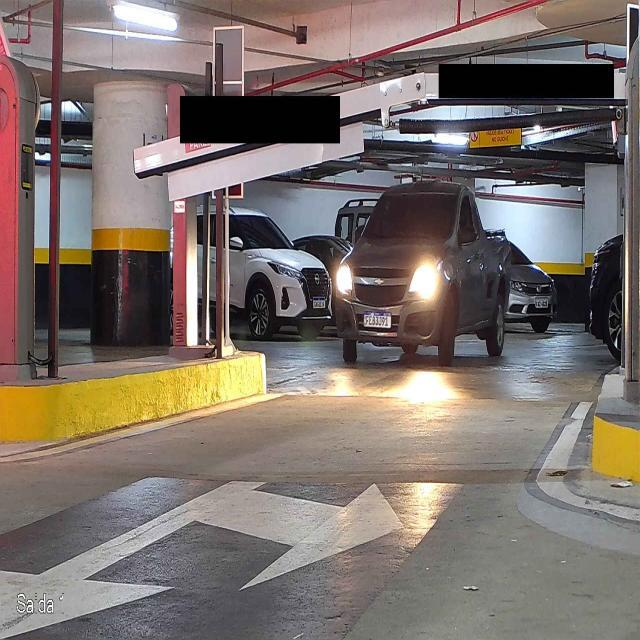mercosul_plate: (362, 310, 392, 330)
